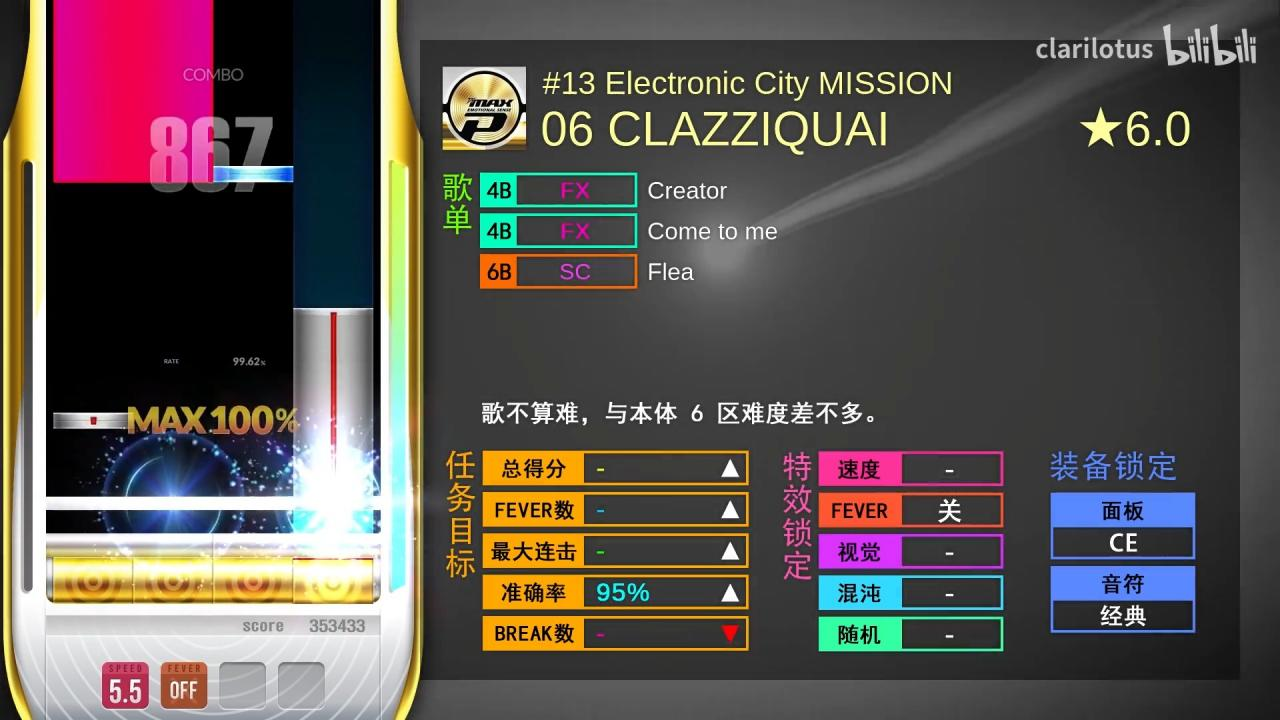hold-end: (293, 308, 373, 325)
note: (214, 165, 294, 182), (53, 412, 133, 428)
xstart: (53, 158, 214, 182)
